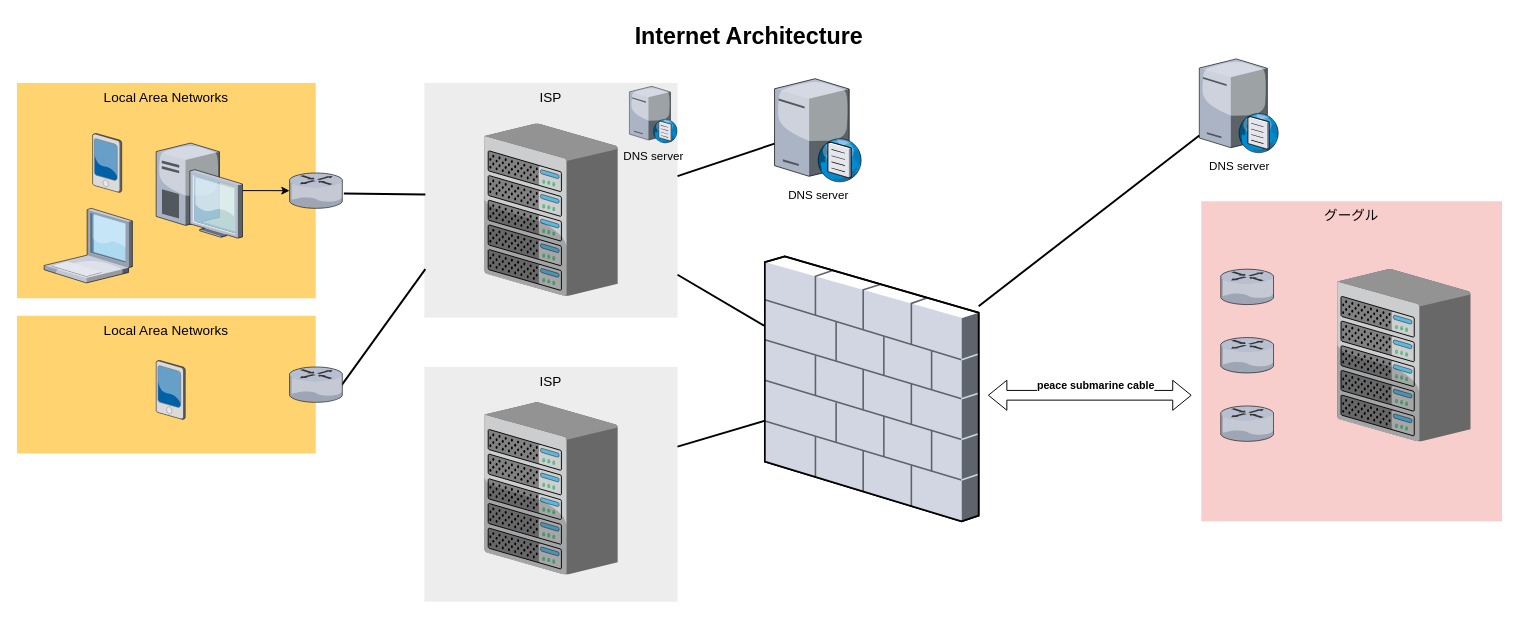
Image size: 1518x618. Some labels were removed from this diagram. Each missing label, with the centre of its shape:
Client: (x=199, y=190)
GFW: (x=871, y=388)
